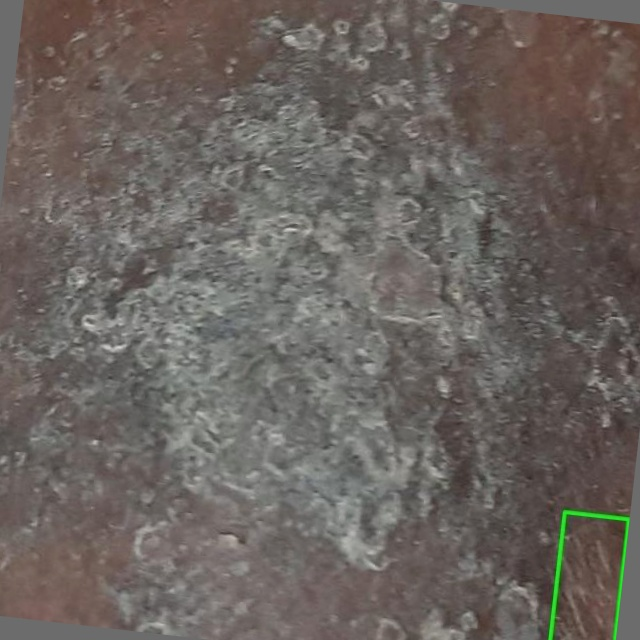Tinea Corporis: (550, 512, 628, 639)
